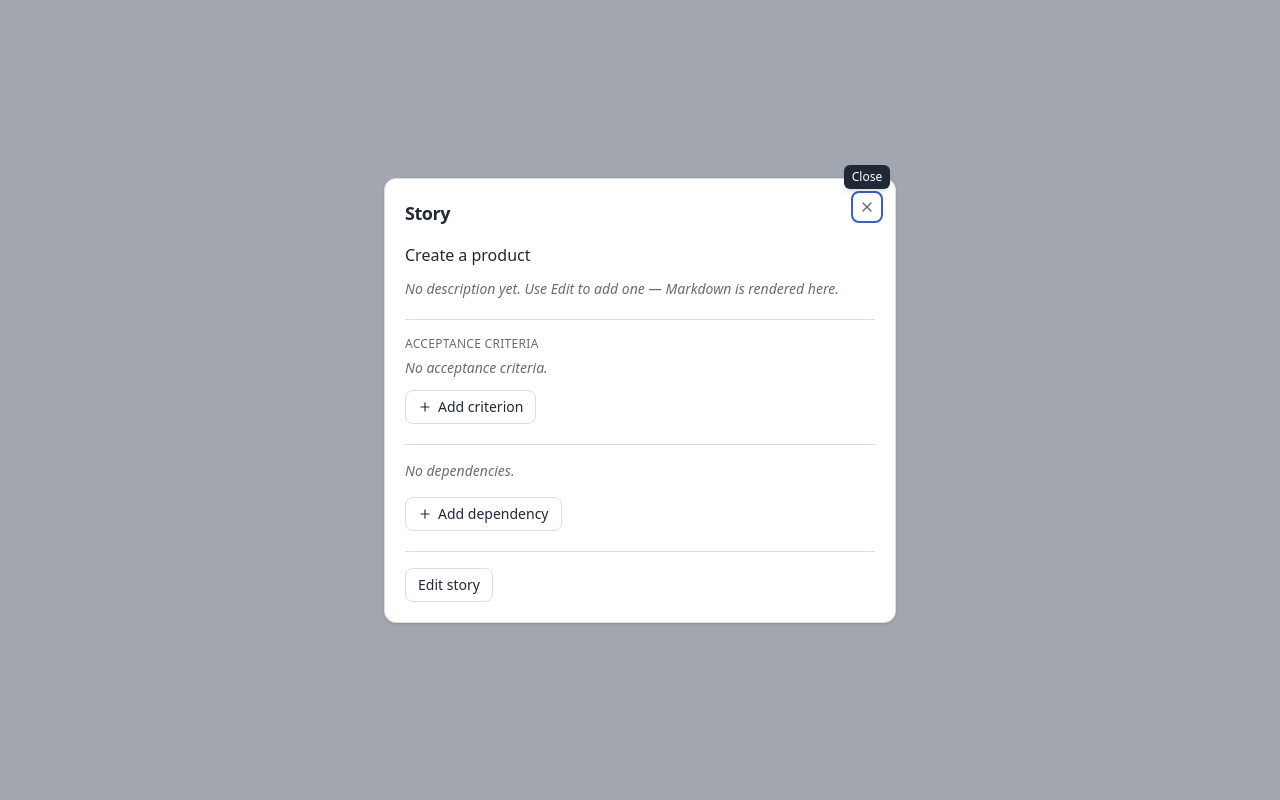
Test: actionError › viewStory dependencies › will not submit a candidate the query has hidden
Click the button "Add dependency" at (483, 514), box [405,496,562,530]
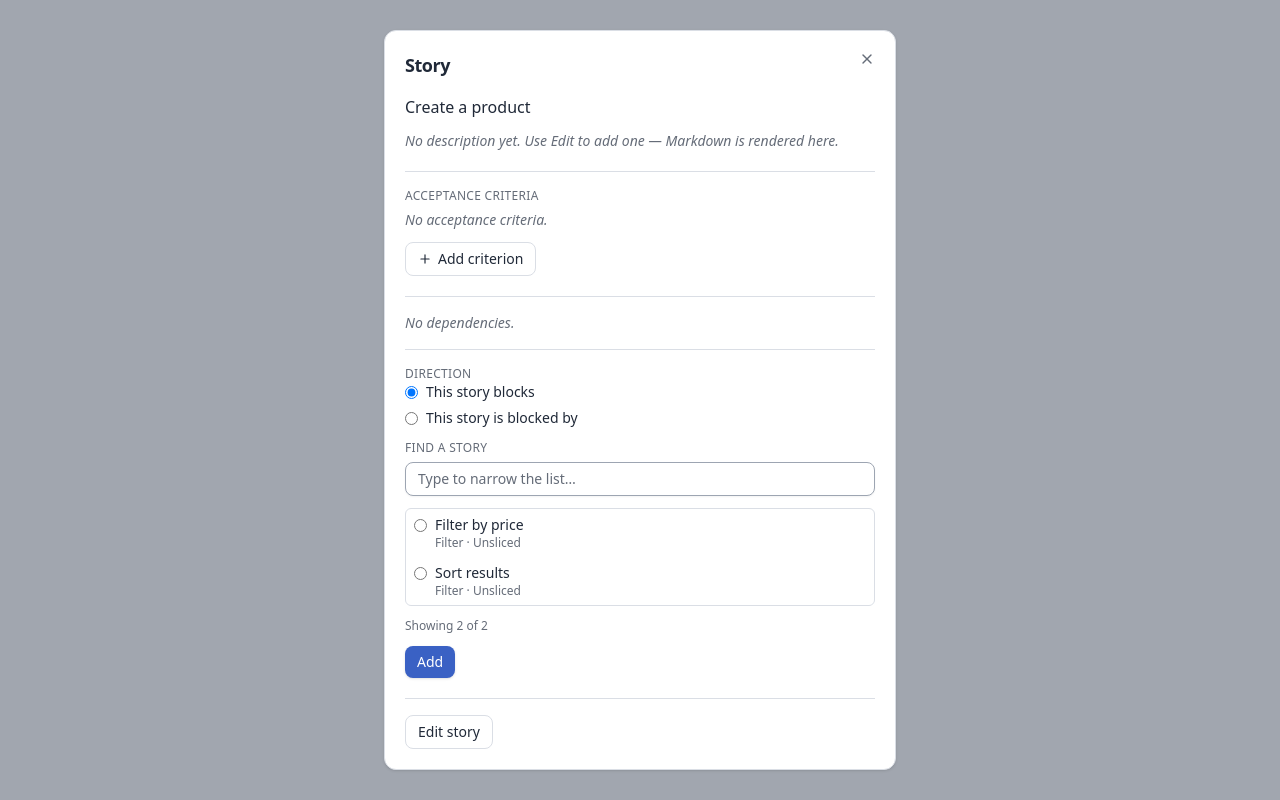
Click the radio button labelled "Sort results Filter · Unsliced" at (420, 574), box [414,567,427,580]
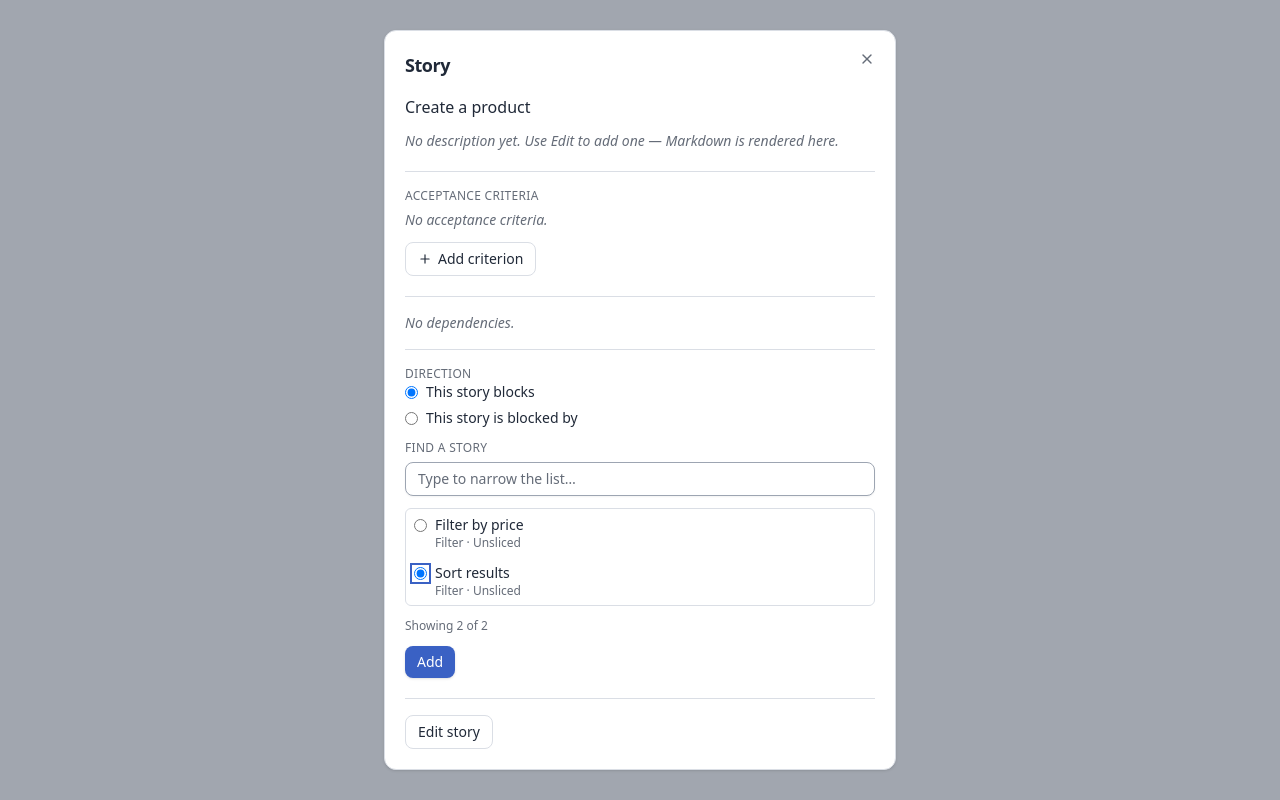
Type "price" into the search field at (640, 479), box [405,462,875,496]
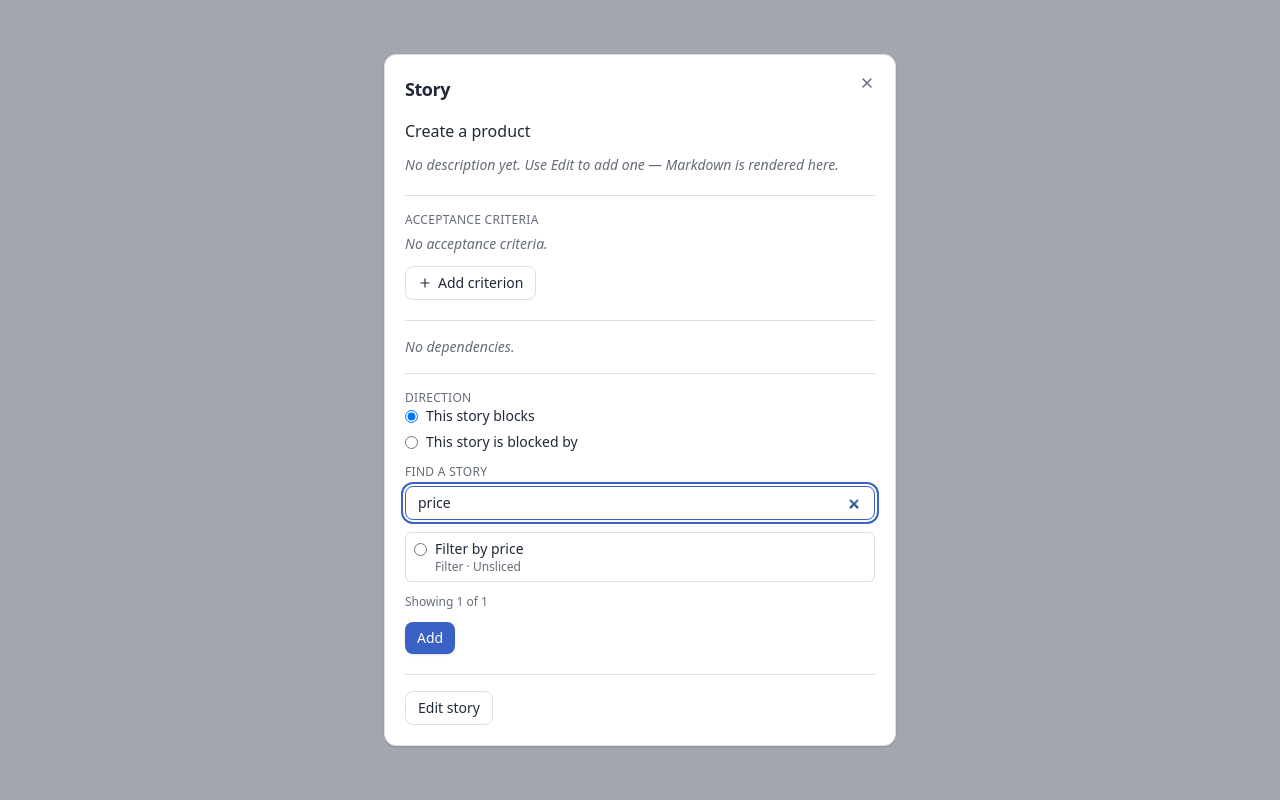
Expected: the submit button is disabled, [405,622,455,654]
